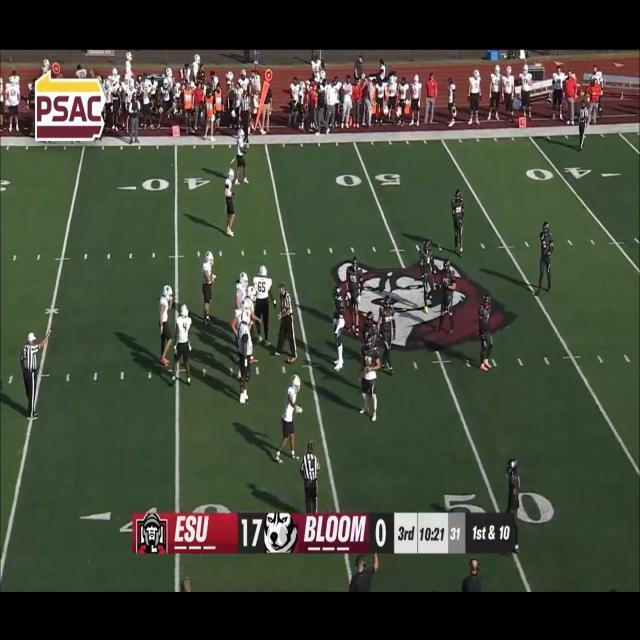football: (284, 352, 298, 368)
